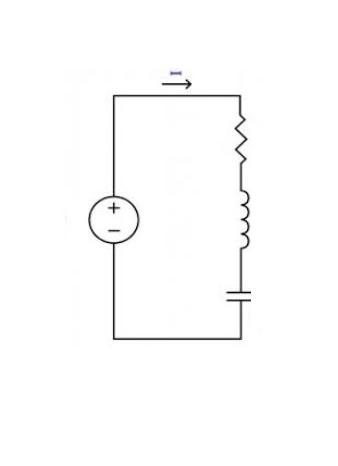resistor: (223, 93, 258, 168)
